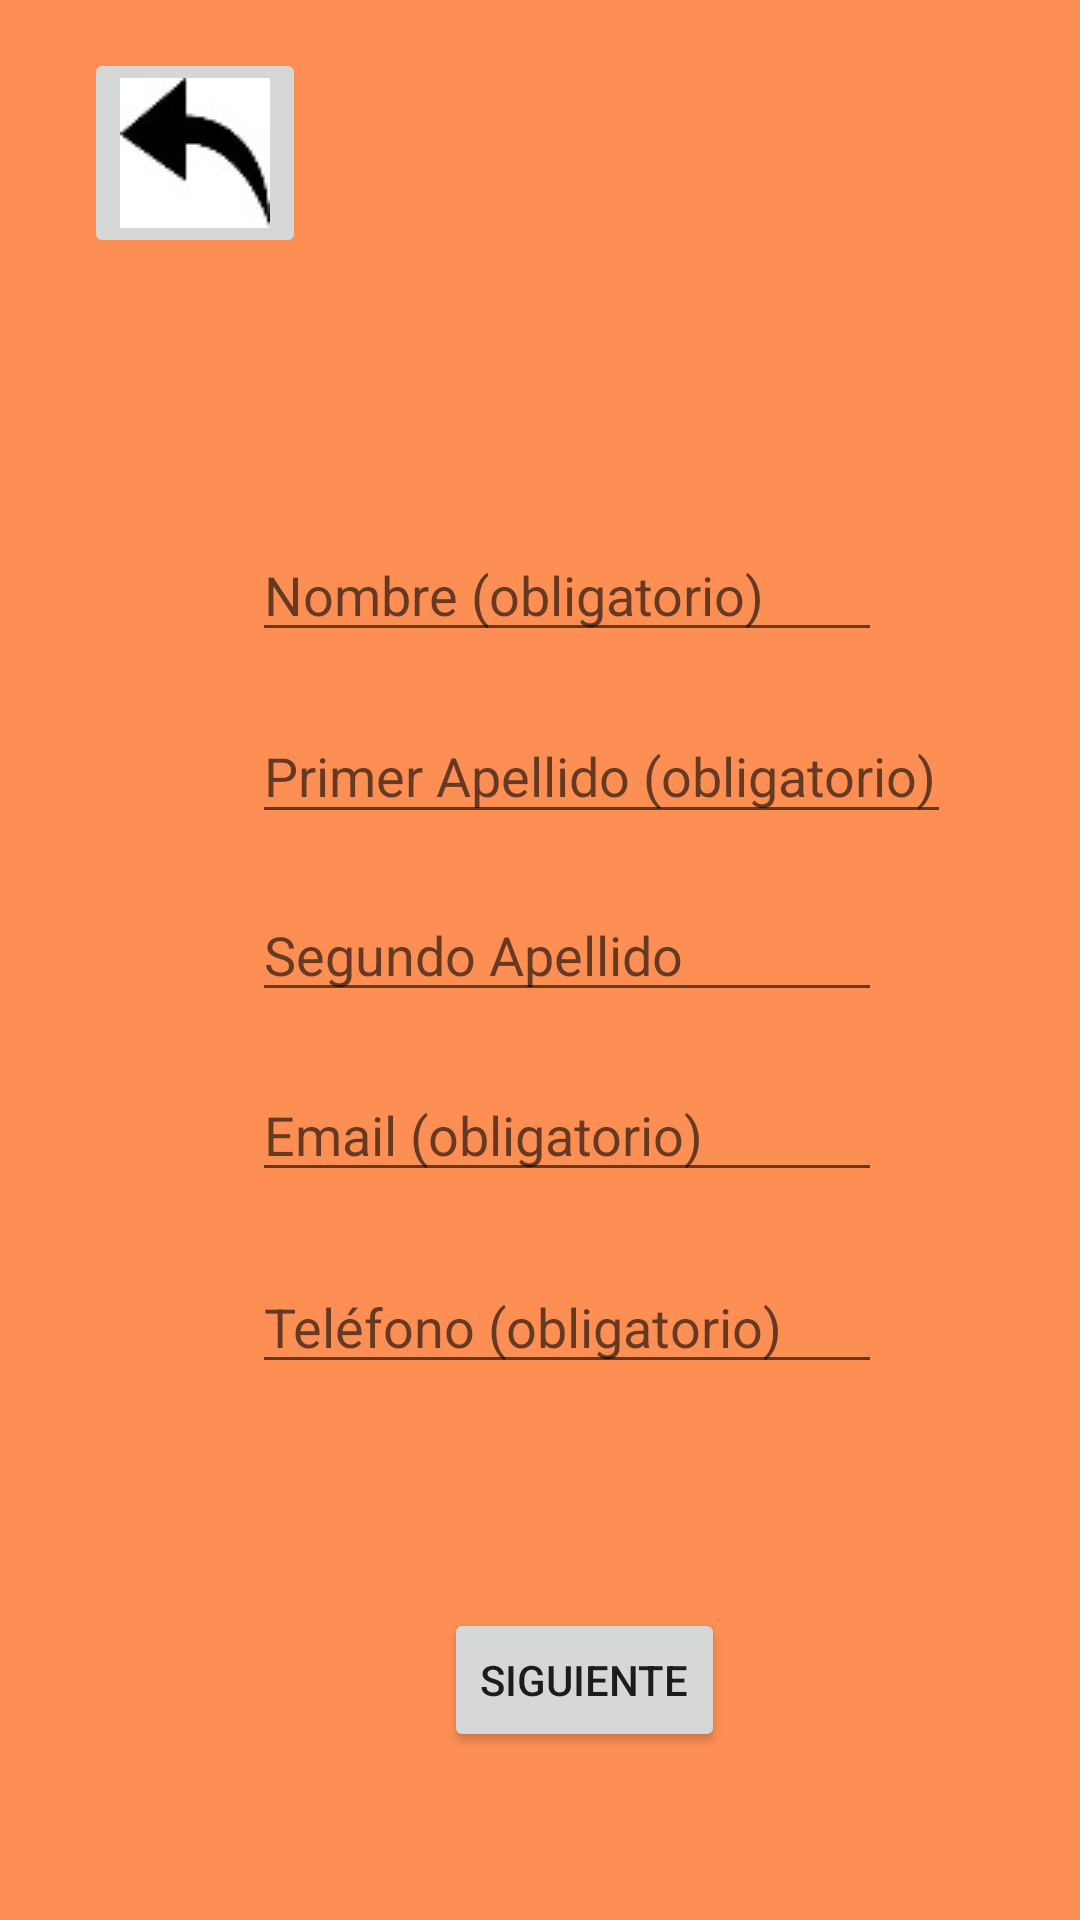

Screen size 1080px×1920px. Icon name, then its center in pixels as point (x, y):
volver: point (195, 153)
